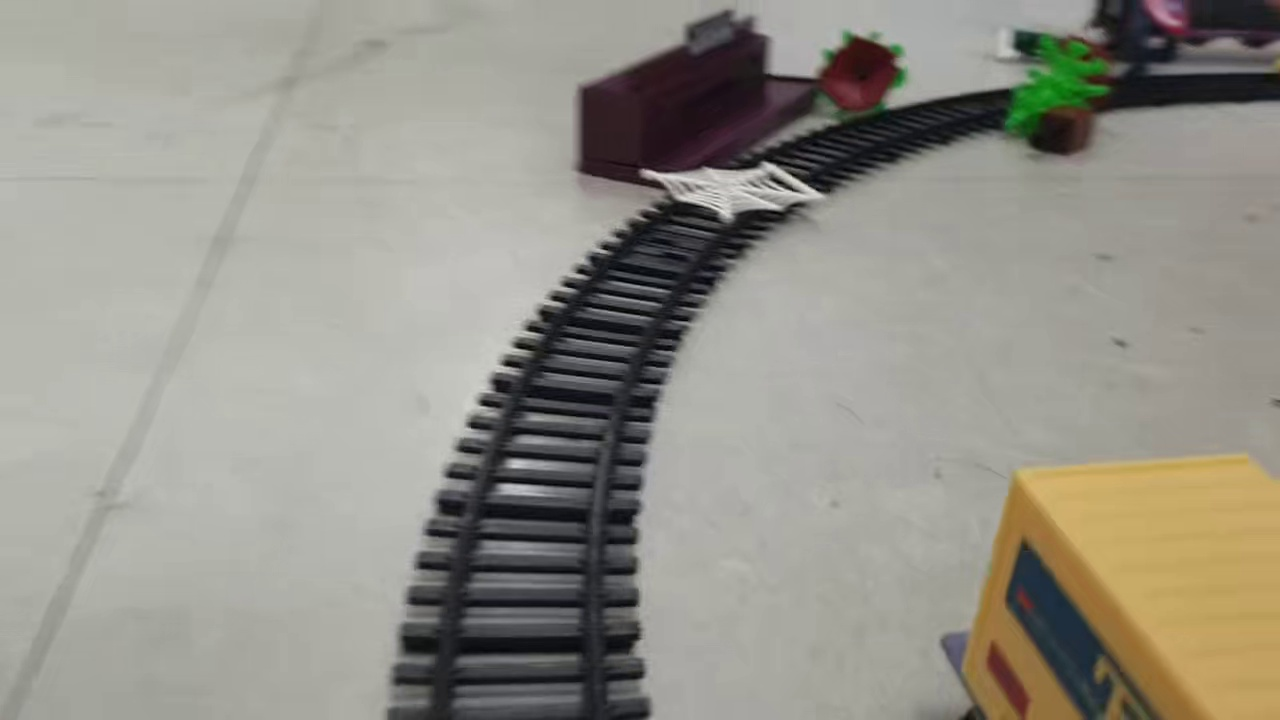box: (1028, 102, 1101, 156)
people: (997, 29, 1085, 61)
tree: (1001, 32, 1120, 138), (817, 29, 909, 112)
web: (638, 155, 825, 224)
